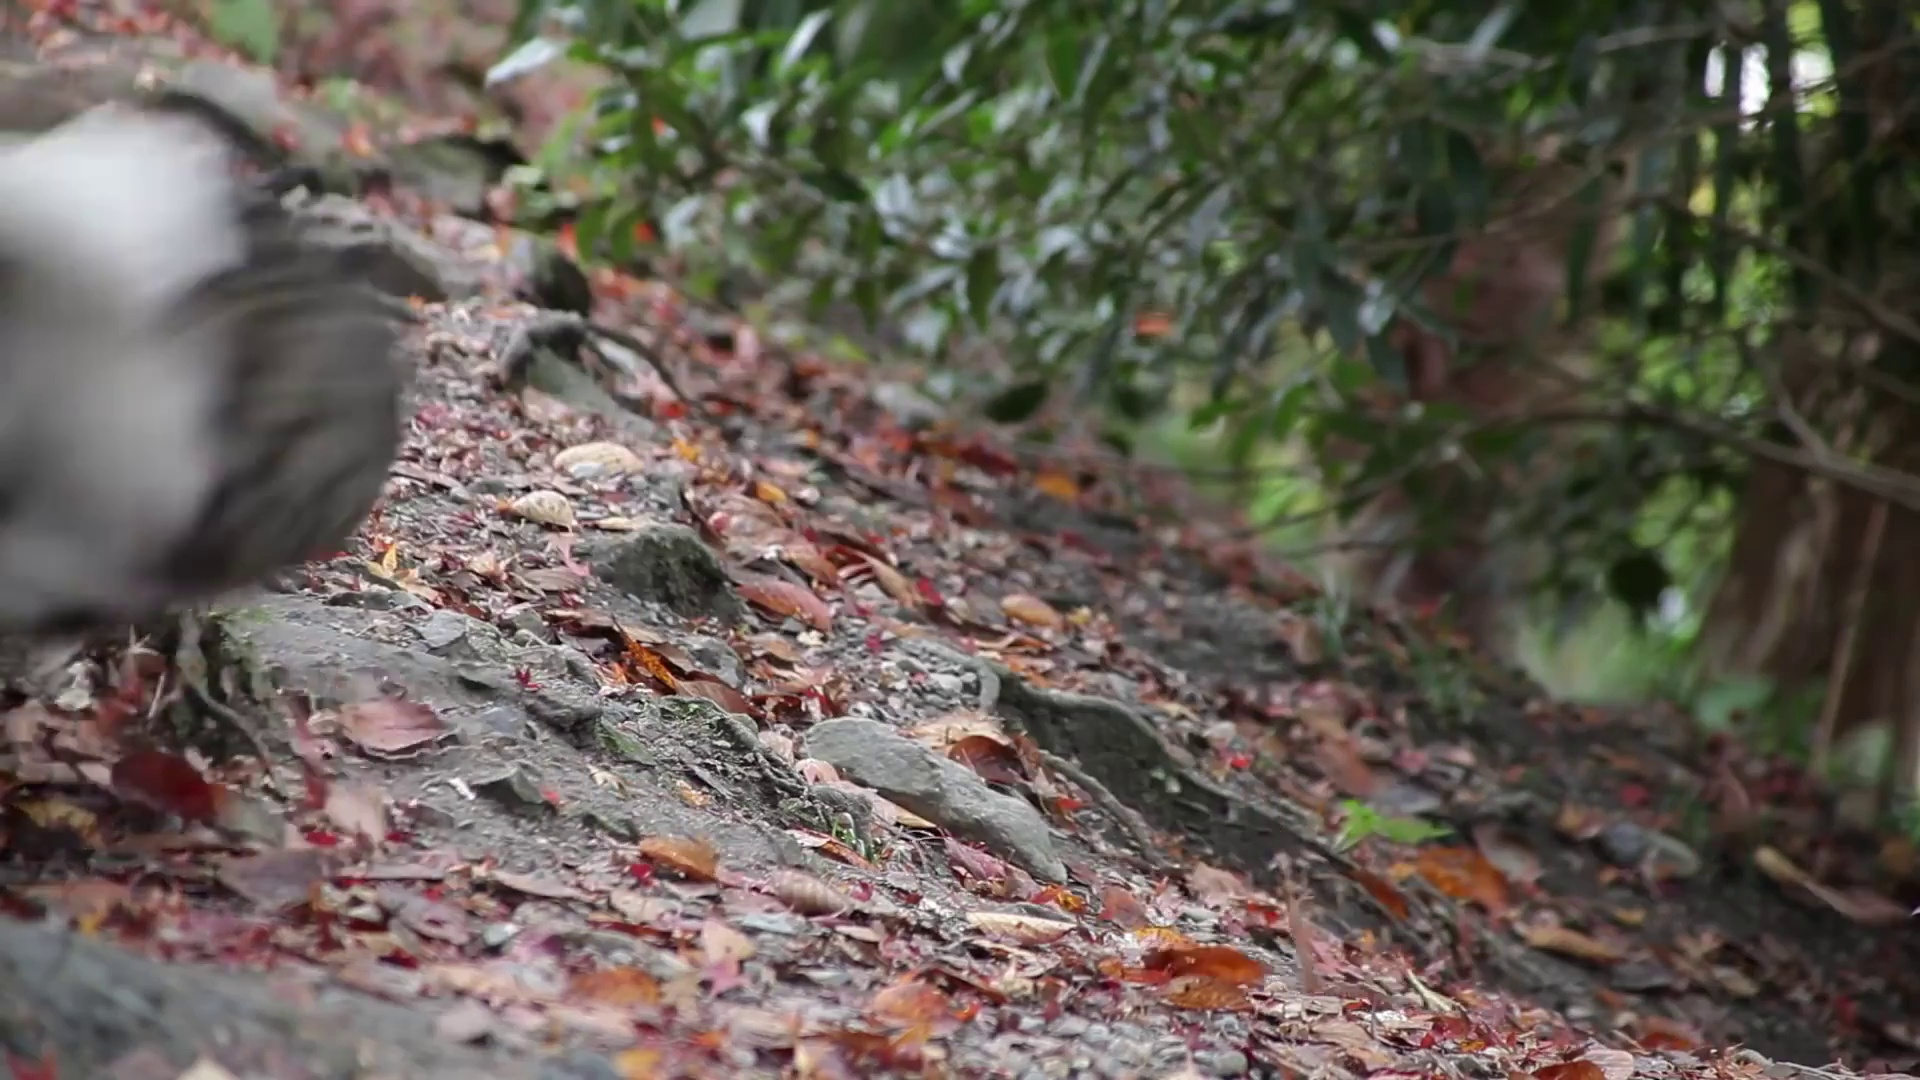black-white: (3, 65, 233, 636)
pure black: (166, 185, 417, 609)
